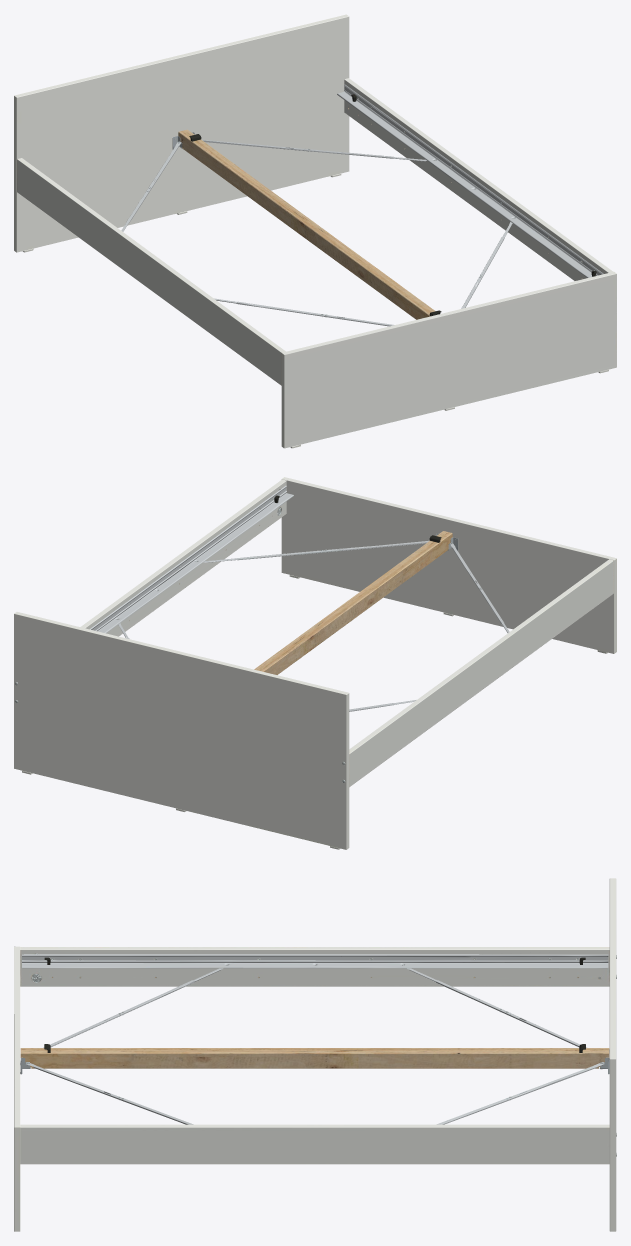
File: vihals_rama_ozka_20602439.glb
3 views of the same model, one above another, from view 1: azimuth 30°, elevation 25°; view 2: azimuth 150°, elevation 25°; view 3: azimuth 270°, elevation 25° (orthographic). The views are drawn at different scales.
Parts seen in each view (by area): view 1: vihals_rama_ozka_20602439; view 2: vihals_rama_ozka_20602439; view 3: vihals_rama_ozka_20602439.
Part boxes in pixels (x1=…): vihals_rama_ozka_20602439: x1=14, y1=14, x2=616, y2=448; vihals_rama_ozka_20602439: x1=14, y1=477, x2=616, y2=849; vihals_rama_ozka_20602439: x1=14, y1=878, x2=616, y2=1231.
Bounding box in the file's own units: 1.46 × 0.658 × 2.06.
1 material, 1 textured.
